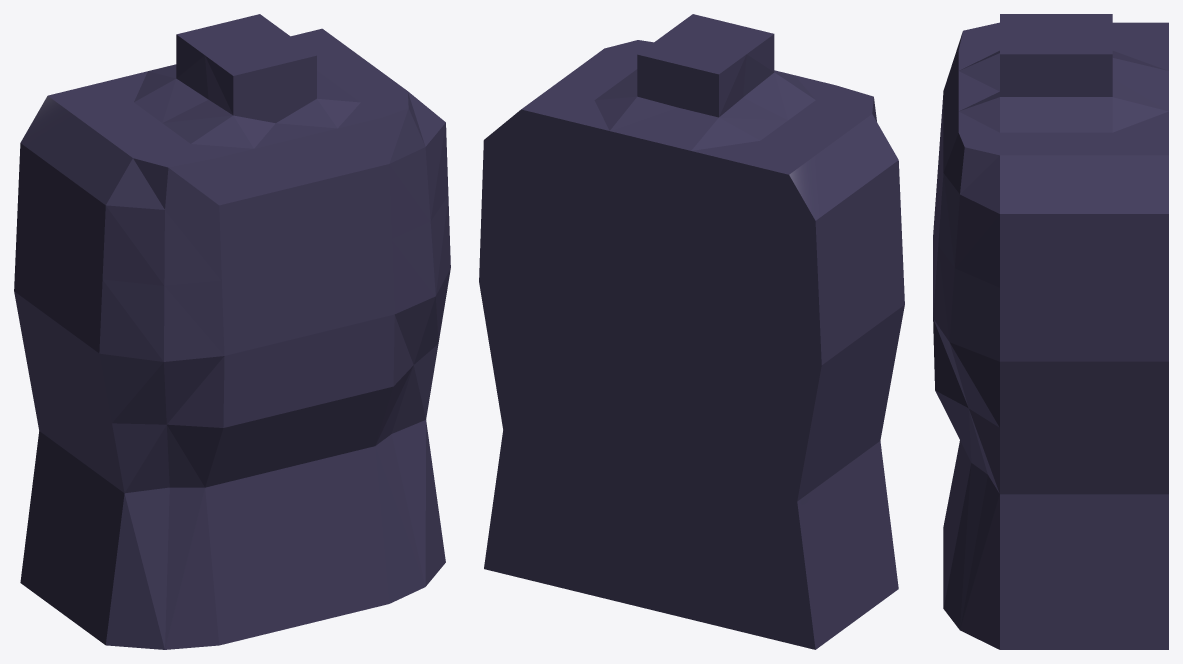
File: EnemyRobotBody.obj
3 views of the same model, side by side, from view 1: azimuth 30°, elevation 25°; view 2: azimuth 150°, elevation 25°; view 3: azimuth 270°, elevation 25° (orthographic). The views are drawn at different scales.
Visible parts, largest first — view 1: Cube; view 2: Cube; view 3: Cube.
Boxes of the visible parts, x1,y1,x2,y2 form: Cube: [14, 14, 450, 649]; Cube: [479, 14, 904, 649]; Cube: [933, 14, 1168, 649].
Size of the model in its own units: 1.25 by 1.83 by 0.7356.
Materials: 1 (1 with a texture image).
